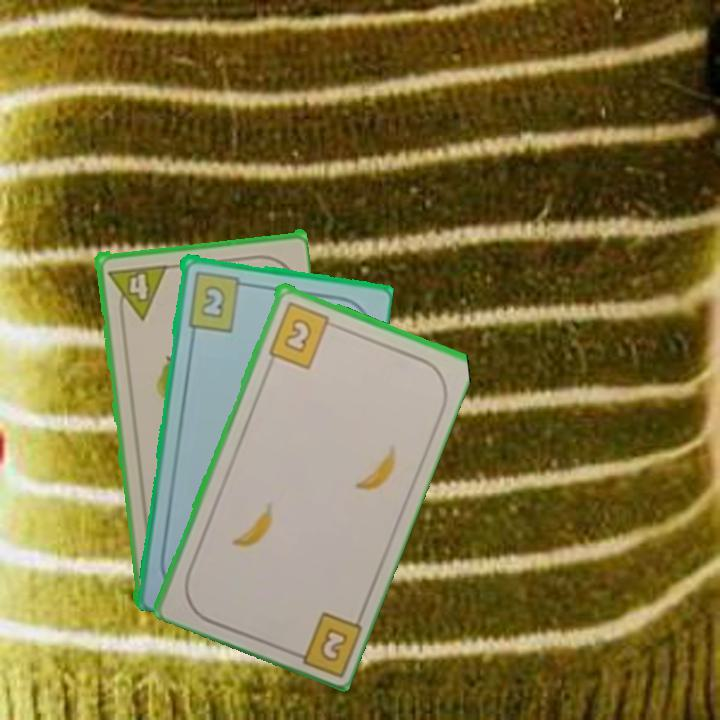2b: (283, 607, 364, 676), (264, 298, 340, 371), (184, 267, 251, 334)
4p: (103, 261, 169, 323)
